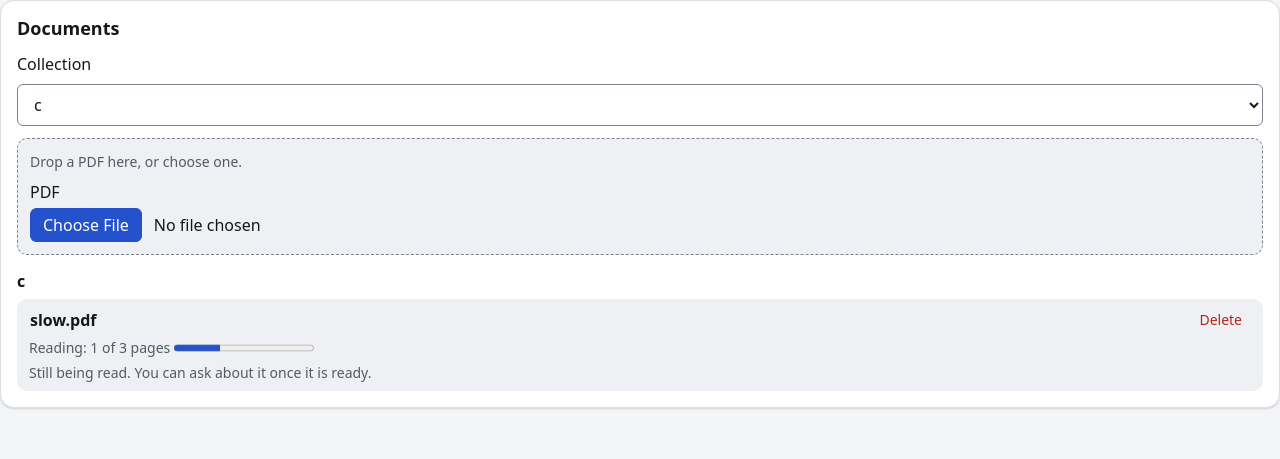
Test: DocumentsPanel › does not report an aborted poll as an error
Check: the button "slow.pdf" is shown, box [29,306,1182,332]
Click the button with aria-label "Delete slow.pdf" at (1221, 320), box [1190,308,1251,331]
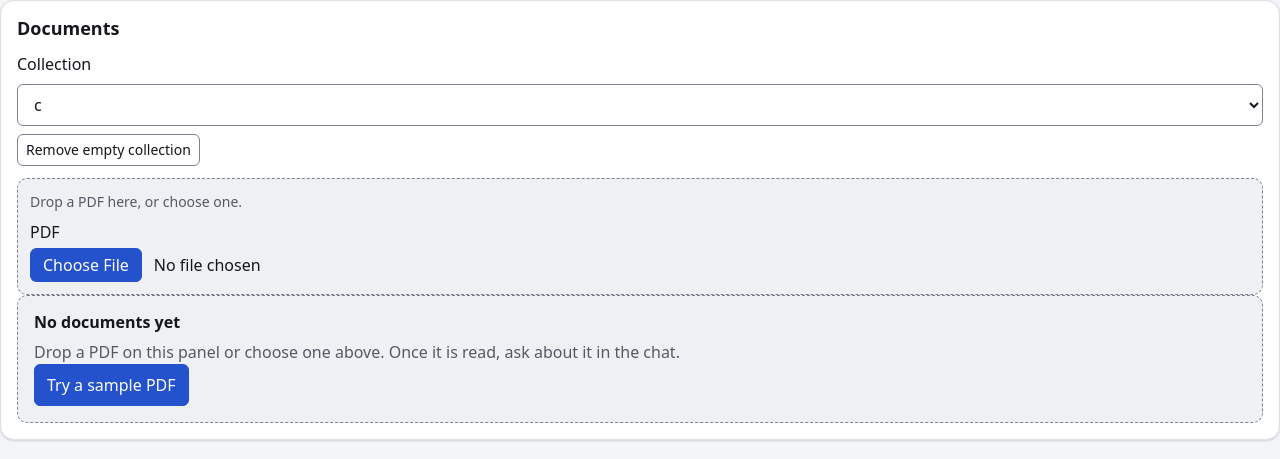
Check: the heading "No documents yet" is shown, box [34,310,180,332]
